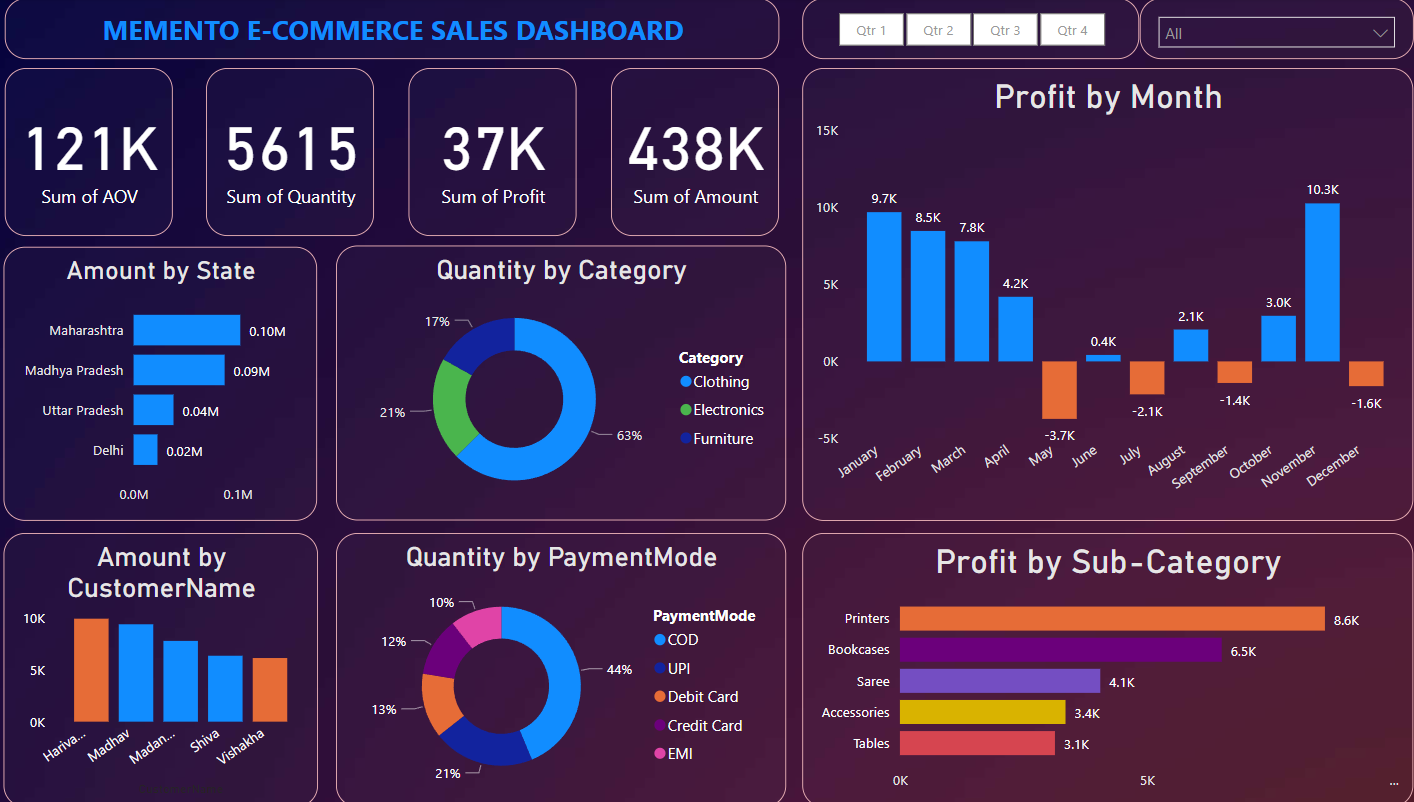

The dashboard page shown, as its layout file describes it:
{"tool":"powerbi","page":{"name":"Page 1","canvas":[1280,720],"ordinal":0},"visuals":[{"type":"textbox","box":[25.3,0,689.8,54.3],"z":0},{"type":"columnChart","title":"Profit by Month","fields":{"Y":["Details.Profit"],"Category":["Orders.Order Date.Variation.Date Hierarchy.Month"]},"box":[735.7,62.7,543.9,402.8],"z":1000},{"type":"barChart","fields":{"Category":["Details.Sub-Category"],"Y":["Details.Profit"]},"box":[735.7,476.4,543.9,243.6],"z":2000},{"type":"donutChart","fields":{"Category":["Details.Category"],"Y":["Details.Quantity"]},"box":[320.8,220.7,400.4,244.8],"z":3000},{"type":"donutChart","fields":{"Y":["Details.Quantity"],"Category":["Details.PaymentMode"]},"box":[320.8,476.4,400.4,243.6],"z":4000},{"type":"card","fields":{"Values":["Details.Amount"]},"box":[565.6,62.7,149.5,149.5],"z":5000},{"type":"card","fields":{"Values":["Details.Profit"]},"box":[384.7,62.7,149.5,149.5],"z":6000},{"type":"card","fields":{"Values":["Details.Quantity"]},"box":[205,62.7,149.5,149.5],"z":7000},{"type":"card","fields":{"Values":["Details.AOV"]},"box":[25.3,62.7,149.5,149.5],"z":8000},{"type":"barChart","fields":{"Category":["Orders.State"],"Y":["Details.Amount"]},"box":[25.3,221.9,279.8,243.6],"z":8001},{"type":"columnChart","fields":{"Category":["Orders.CustomerName"],"Y":["Details.Amount"]},"box":[25,476,280,244],"z":8002},{"type":"slicer","fields":{"Values":["Orders.Order Date.Variation.Date Hierarchy.Quarter"]},"box":[735.7,0,300.3,54.3],"z":8003},{"type":"slicer","fields":{"Values":["Orders.State"]},"box":[1036,0,243.6,54.3],"z":8004}]}

Visuals, with their boxes in screenshot pixels (x1, y1, x2, y2), scaled from the page's 1280x720 canvas onto the 1414x802 screenshot:
textbox: {"left": 28, "top": 0, "right": 790, "bottom": 60}
"Profit by Month" columnChart: {"left": 813, "top": 70, "right": 1413, "bottom": 519}
barChart - Details.Sub-Category x Details.Profit: {"left": 813, "top": 531, "right": 1413, "bottom": 801}
donutChart - Details.Category x Details.Quantity: {"left": 354, "top": 246, "right": 797, "bottom": 519}
donutChart - Details.Quantity x Details.PaymentMode: {"left": 354, "top": 531, "right": 797, "bottom": 801}
card - Details.Amount: {"left": 625, "top": 70, "right": 790, "bottom": 236}
card - Details.Profit: {"left": 425, "top": 70, "right": 590, "bottom": 236}
card - Details.Quantity: {"left": 226, "top": 70, "right": 392, "bottom": 236}
card - Details.AOV: {"left": 28, "top": 70, "right": 193, "bottom": 236}
barChart - Orders.State x Details.Amount: {"left": 28, "top": 247, "right": 337, "bottom": 519}
columnChart - Orders.CustomerName x Details.Amount: {"left": 28, "top": 530, "right": 337, "bottom": 801}
slicer - Orders.Order Date.Variation.Date Hierarchy.Quarter: {"left": 813, "top": 0, "right": 1144, "bottom": 60}
slicer - Orders.State: {"left": 1144, "top": 0, "right": 1413, "bottom": 60}
